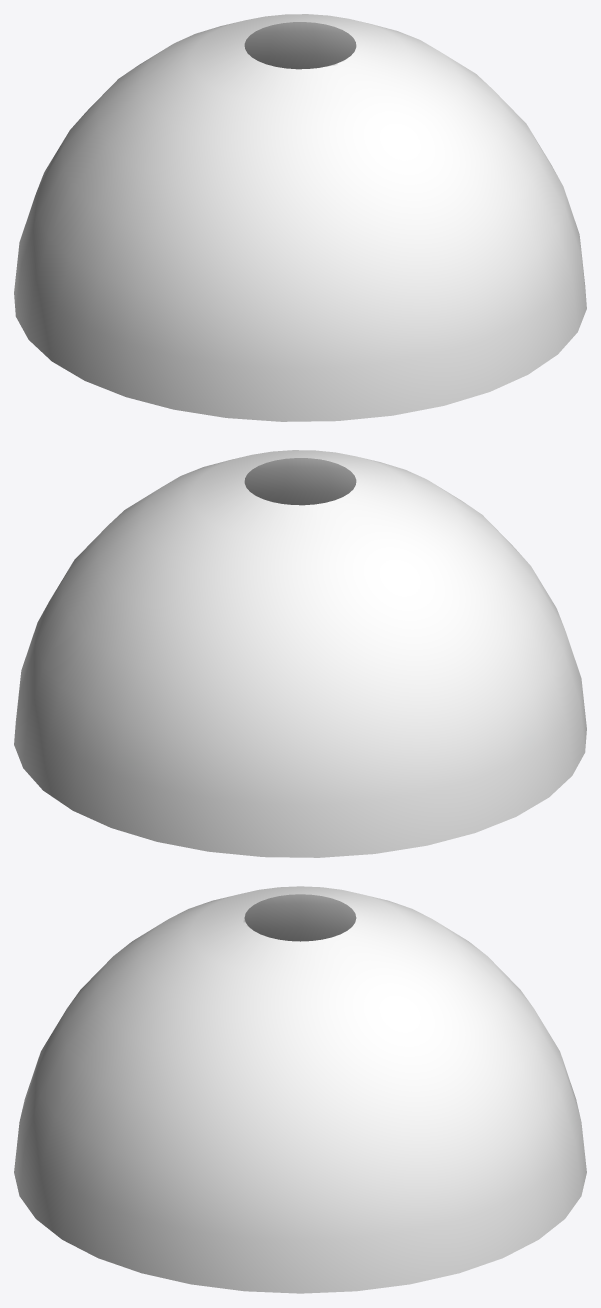
File: sky_dome 1.fbx
3 views of the same model, one above another, from view 1: azimuth 30°, elevation 25°; view 2: azimuth 150°, elevation 25°; view 3: azimuth 270°, elevation 25° (orthographic).
Visible parts, largest first — view 1: Sphere; view 2: Sphere; view 3: Sphere.
Part boxes in pixels (box(x1,y1,x2,y2)): Sphere: box(14, 14, 586, 421); Sphere: box(14, 450, 586, 857); Sphere: box(14, 886, 586, 1293).
Size of the model in its own units: 200 by 98.08 by 200.
